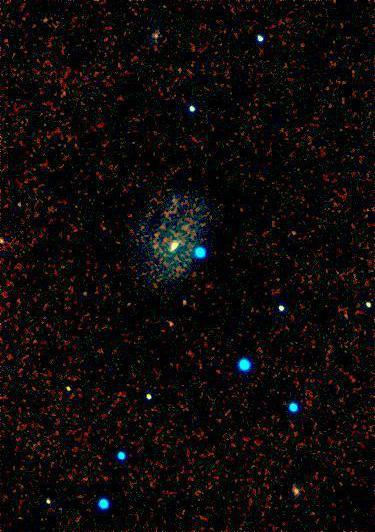star: (159, 314, 189, 344)
